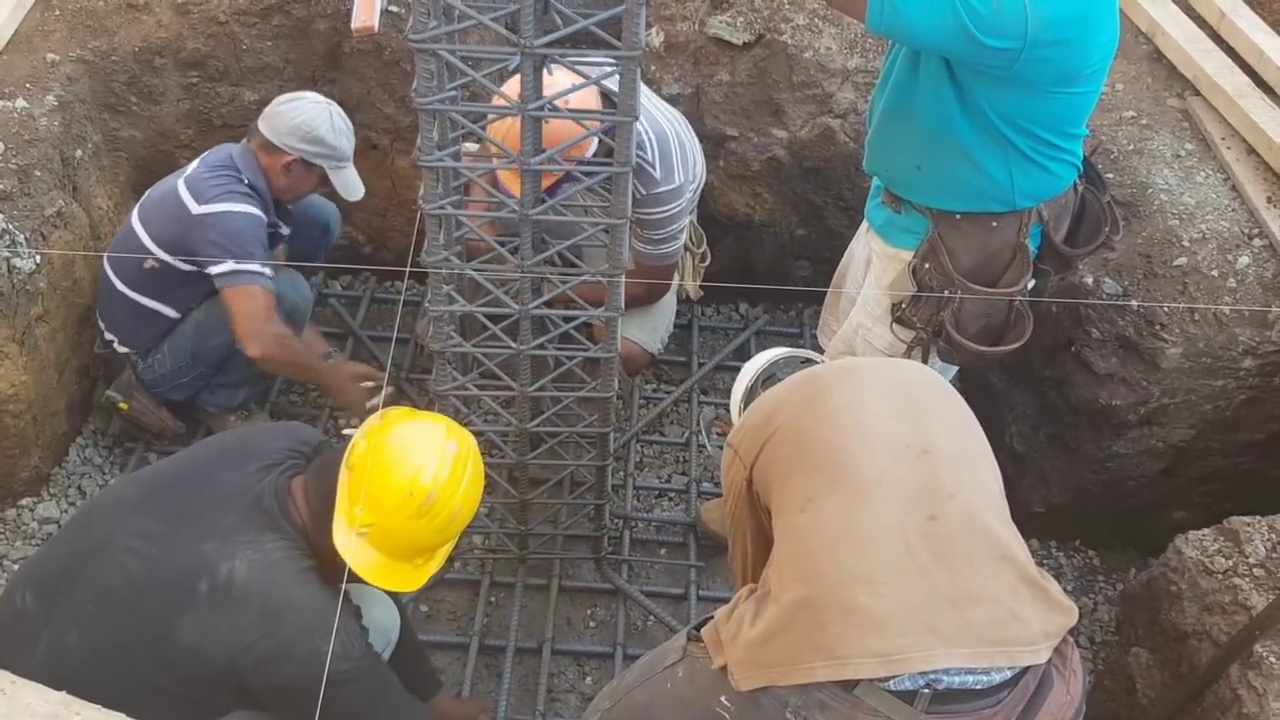helmet: (326, 406, 475, 599), (475, 59, 589, 200), (733, 350, 818, 452)
helmet-off: (248, 88, 362, 206)
helmet-on: (290, 402, 486, 592), (475, 51, 627, 207), (726, 340, 836, 447)
person: (578, 335, 1087, 720), (0, 404, 493, 714), (816, 0, 1124, 377), (106, 75, 403, 455), (472, 50, 710, 371)
